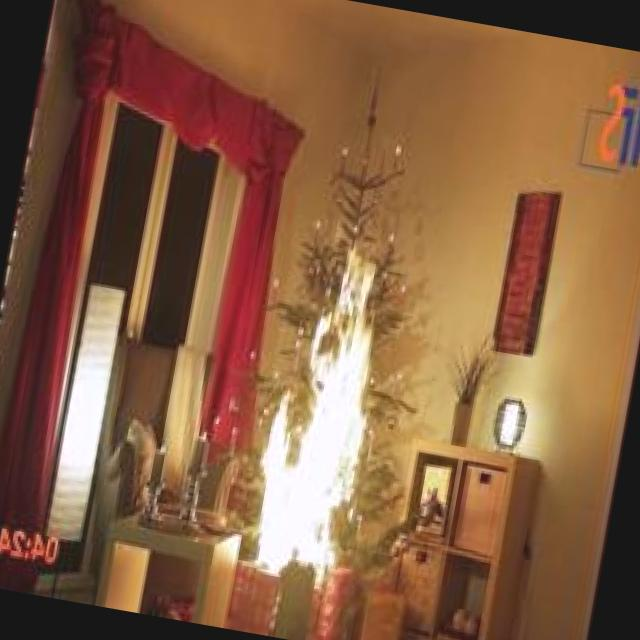fire: (230, 233, 396, 577)
